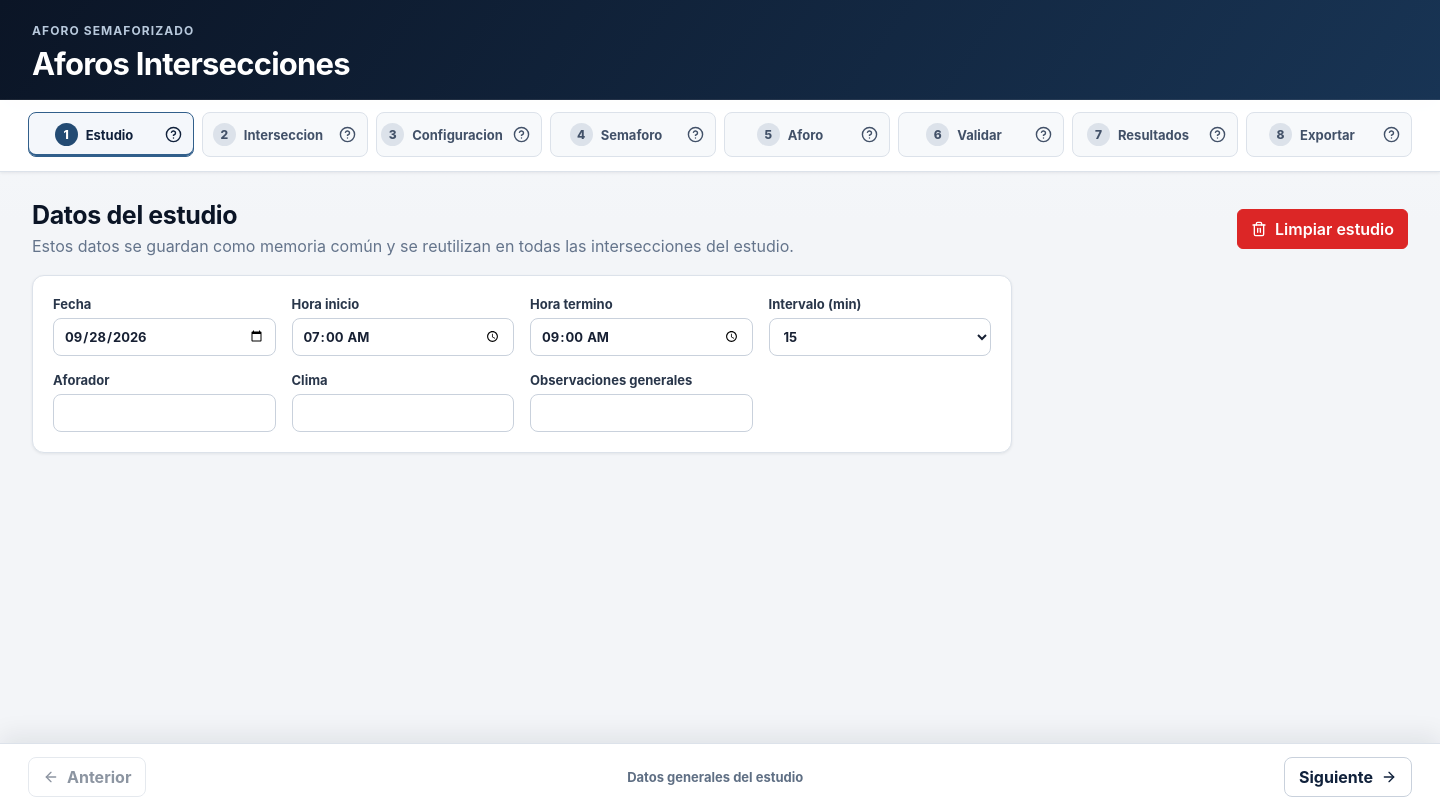
Test case: WizardApp ficha aforo capture flow › shows every capture issue and focuses the exact field selected from validation
This screenshot has width=1440, height=810.
Click the button "2 Interseccion". click: [268, 135]
box: [208,118,328,151]
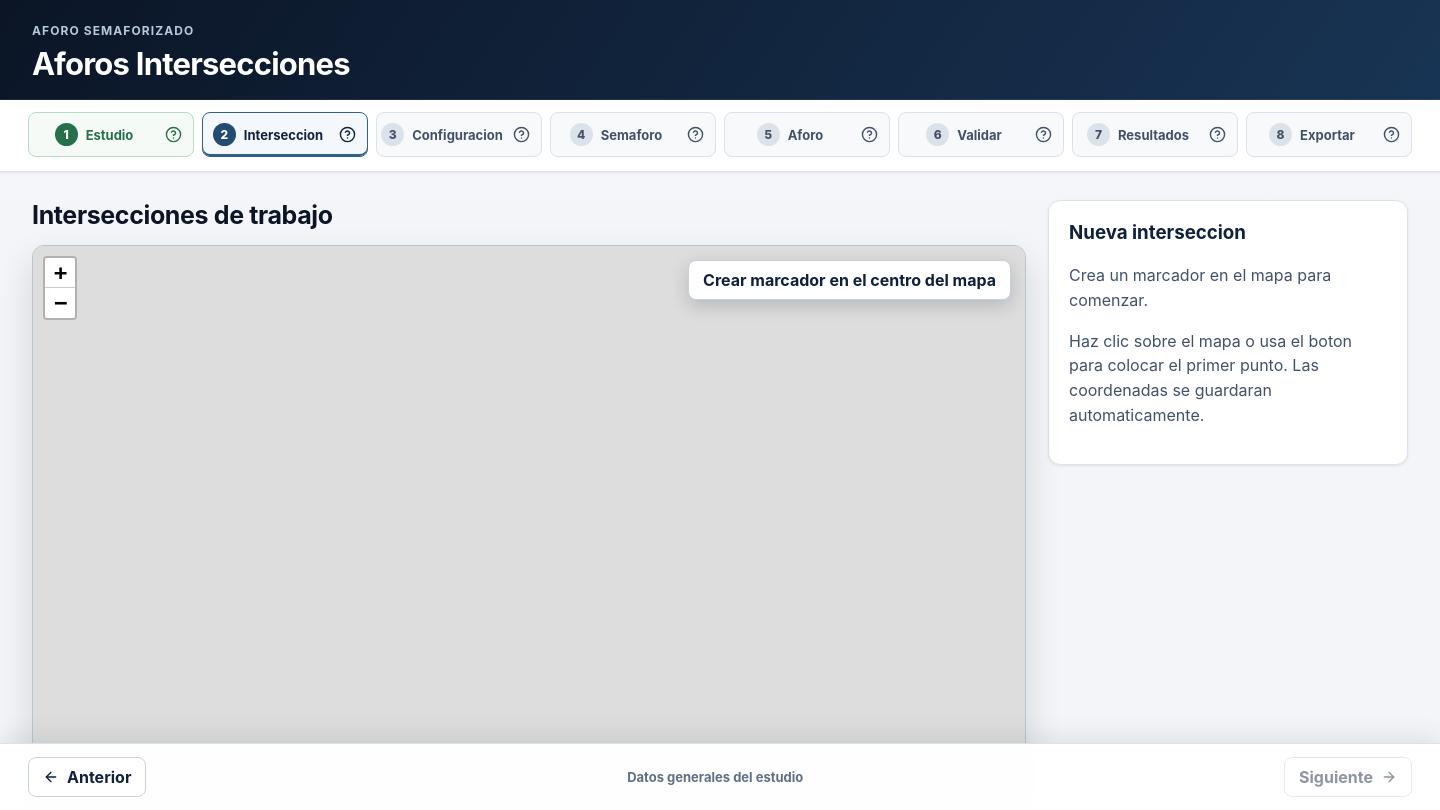
Click the button with aria-label "Crear una intersección en el centro visible del mapa". click: [850, 280]
box: [688,260,1011,300]
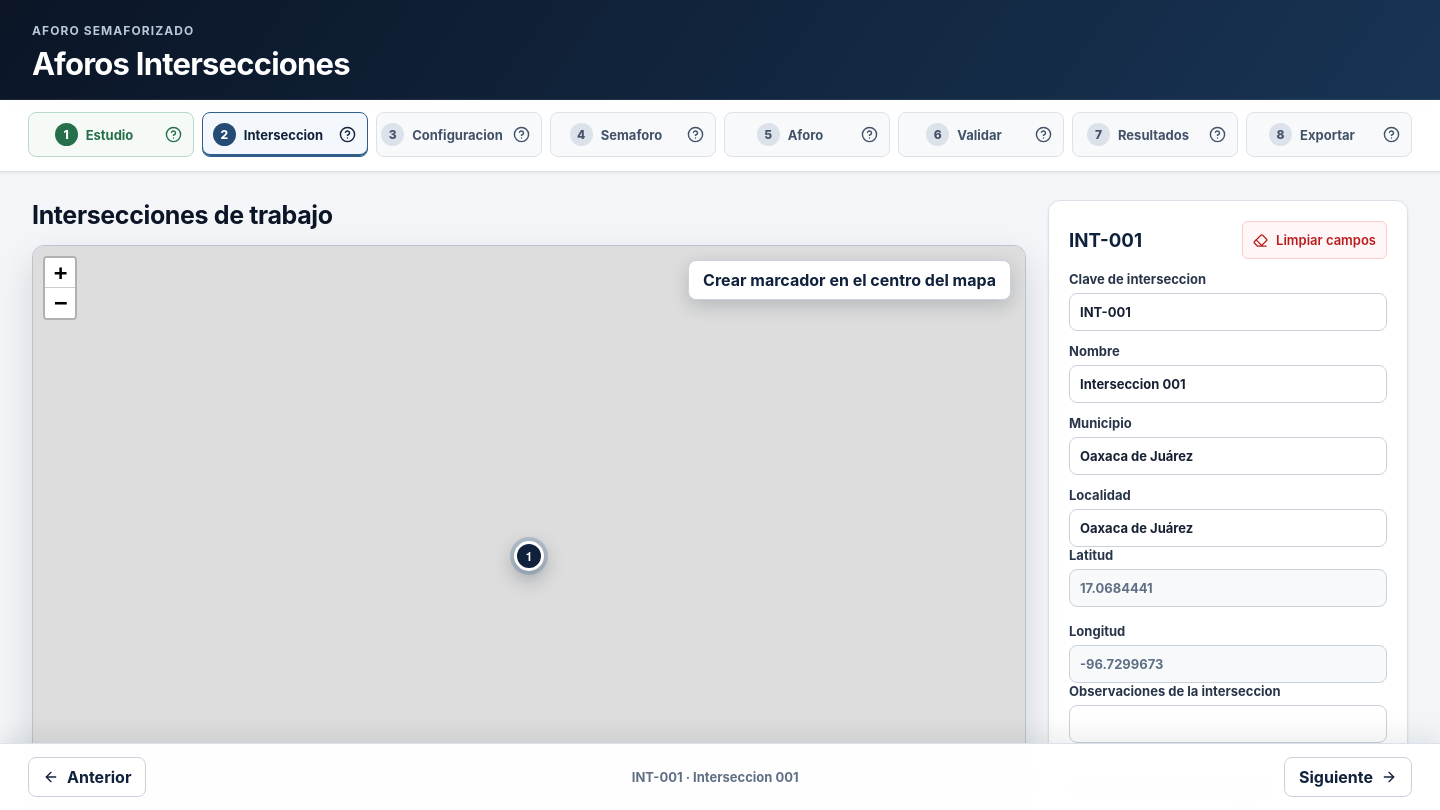
Click the button "6 Validar". click: [964, 135]
box: [904,118,1024,151]
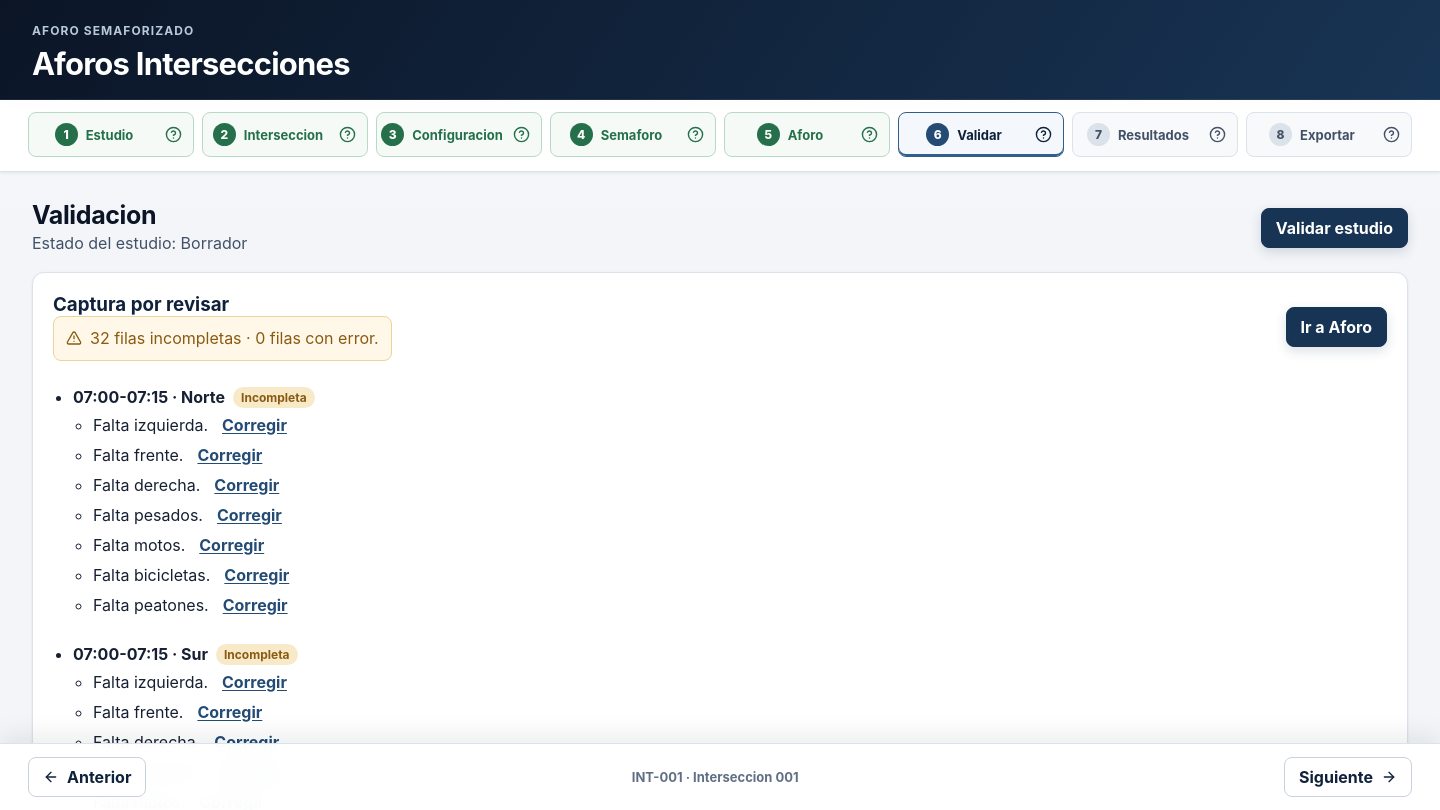
Now the 2nd button "Corregir " is shown
Click the 2nd button "Corregir ". click: [230, 455]
box: [191,444,268,466]
(page scrolled)
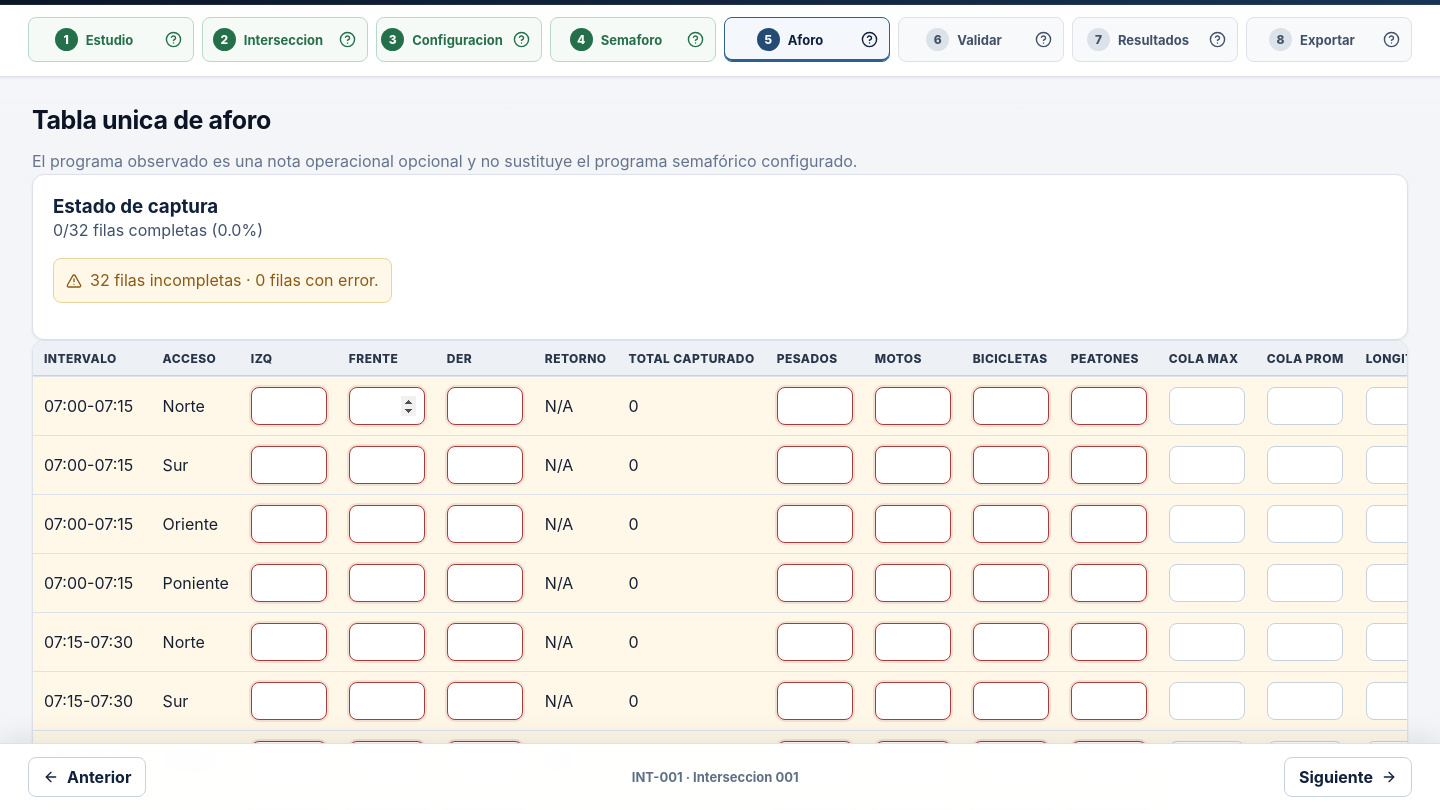
Now the heading "Tabla unica de aforo" is shown, box [32,105,271,135]
